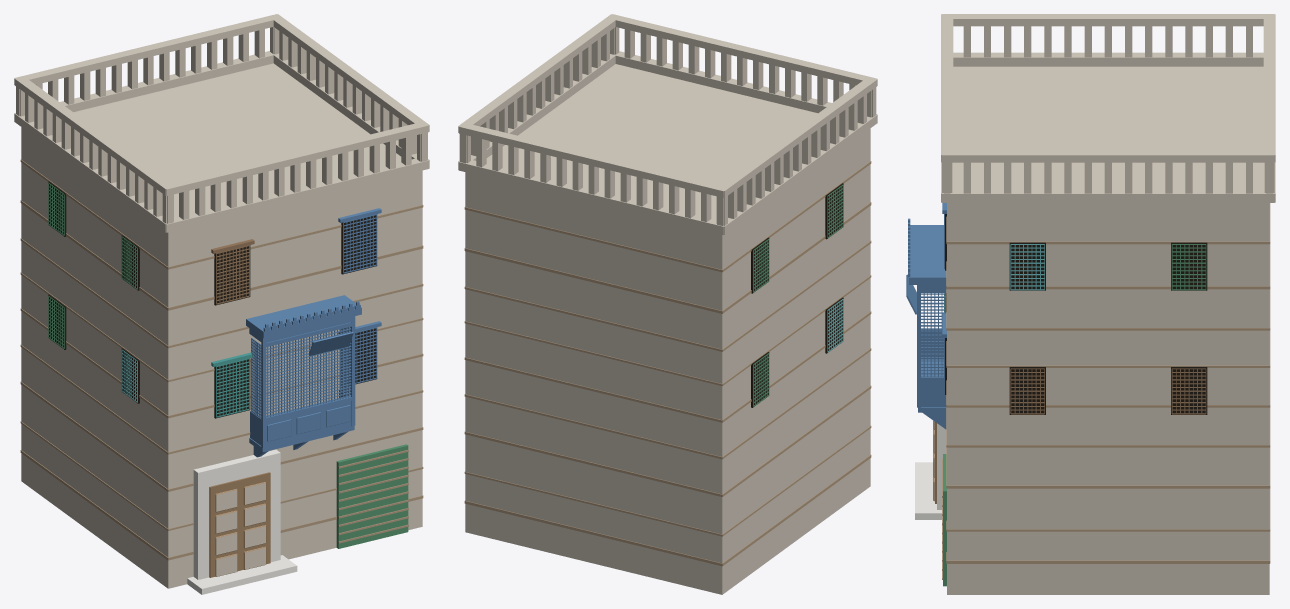
The model's file is SM_HijaziHouse_02.fbx.
The picture shows the model from 3 angles, left to right: view 1: azimuth 30°, elevation 25°; view 2: azimuth 150°, elevation 25°; view 3: azimuth 270°, elevation 25°; orthographic projection. The views are drawn at different scales.
Parts seen in each view (by area): view 1: SM_HijaziHouse_02; view 2: SM_HijaziHouse_02; view 3: SM_HijaziHouse_02.
Boxes of the visible parts, x1,y1,x2,y2 form: SM_HijaziHouse_02: (14,14,429,594); SM_HijaziHouse_02: (458,14,877,594); SM_HijaziHouse_02: (906,14,1275,594).
Size of the model in its own units: 830 by 1210 by 916.
